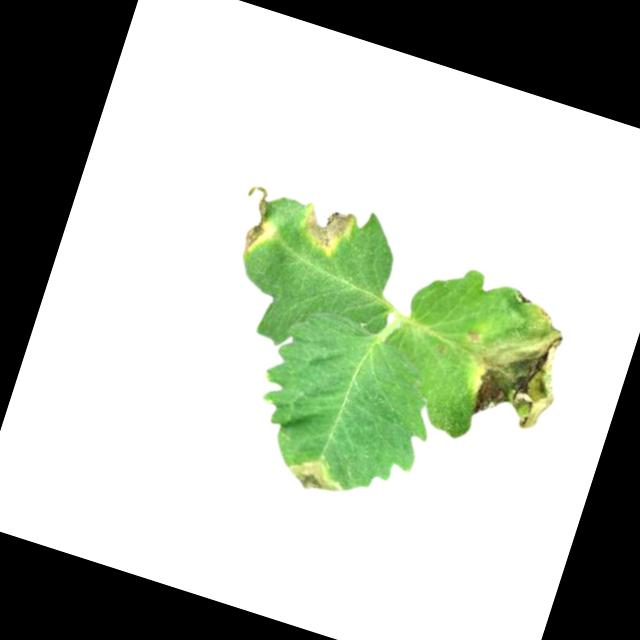Late_blight: (452, 281, 585, 441), (229, 182, 287, 261), (295, 199, 359, 263), (283, 454, 345, 501)
